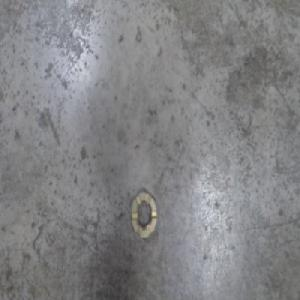Nut: (129, 186, 158, 241)
